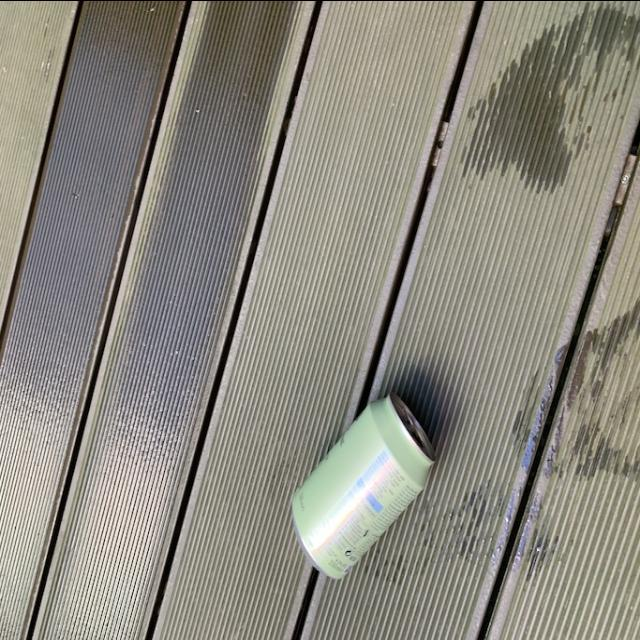Aluminum Can: (289, 388, 443, 582)
